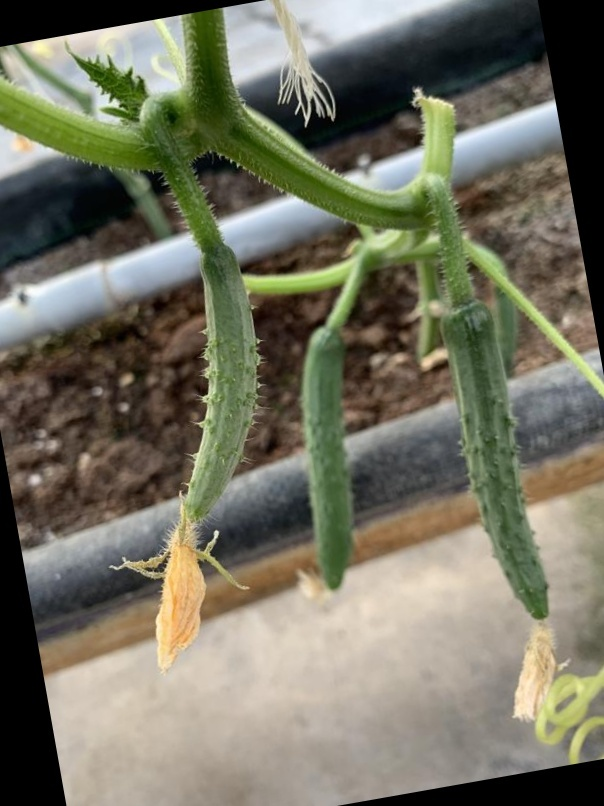bear: (119, 230, 282, 674)
growth: (118, 233, 282, 665), (439, 300, 560, 643), (289, 320, 363, 604)
mature: (289, 325, 363, 606)
